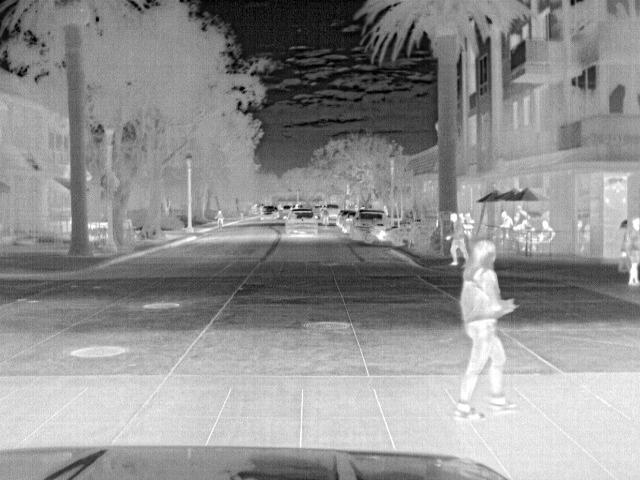car: (284, 207, 320, 238), (353, 207, 387, 223), (260, 204, 284, 220), (323, 203, 339, 223)
person: (453, 238, 518, 417), (444, 211, 471, 268), (622, 218, 638, 284), (540, 218, 558, 244), (496, 208, 518, 227), (317, 205, 330, 225), (214, 210, 226, 230)
